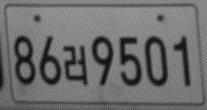0: (144, 35, 168, 86)
1: (171, 35, 193, 87)
5: (118, 36, 142, 86)
6: (38, 34, 61, 85)
8: (12, 35, 36, 85)
9: (90, 35, 114, 85)
러: (61, 44, 88, 86)
